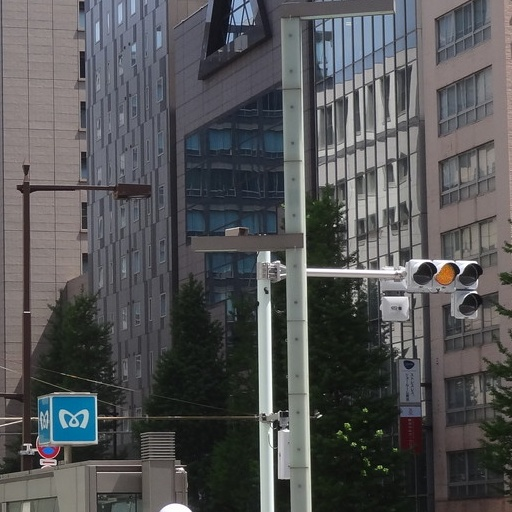Traffic_Signal_Yellow: (399, 256, 481, 295)
